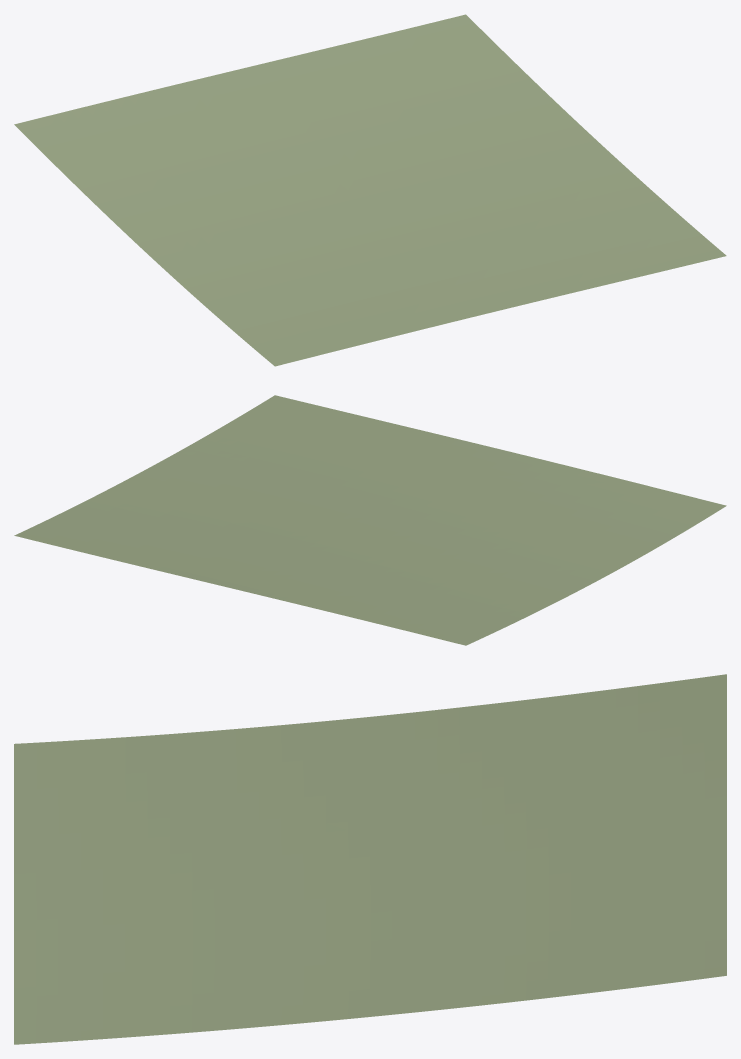
File: desert-31-12.glb
The picture shows the model from 3 angles, top to bottom: view 1: azimuth 30°, elevation 25°; view 2: azimuth 150°, elevation 25°; view 3: azimuth 270°, elevation 25°; orthographic projection. The views are drawn at different scales.
Parts seen in each view (by area): view 1: desert-31-12; view 2: desert-31-12; view 3: desert-31-12.
Boxes of the visible parts, left/top/right/bottom form: desert-31-12: left=14, top=14, right=726, bottom=366; desert-31-12: left=14, top=395, right=726, bottom=645; desert-31-12: left=14, top=674, right=726, bottom=1044.
Size of the model in its own units: 512 by 55.66 by 512.
